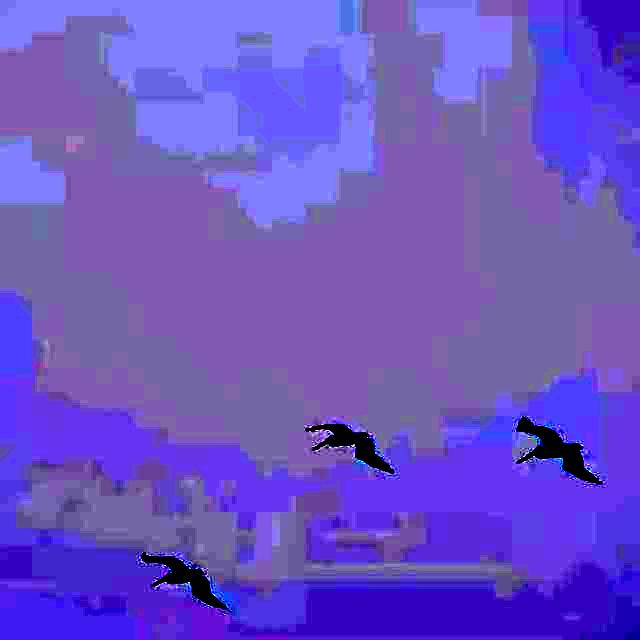bird: (515, 412, 603, 486), (138, 541, 228, 609), (304, 417, 396, 481)
